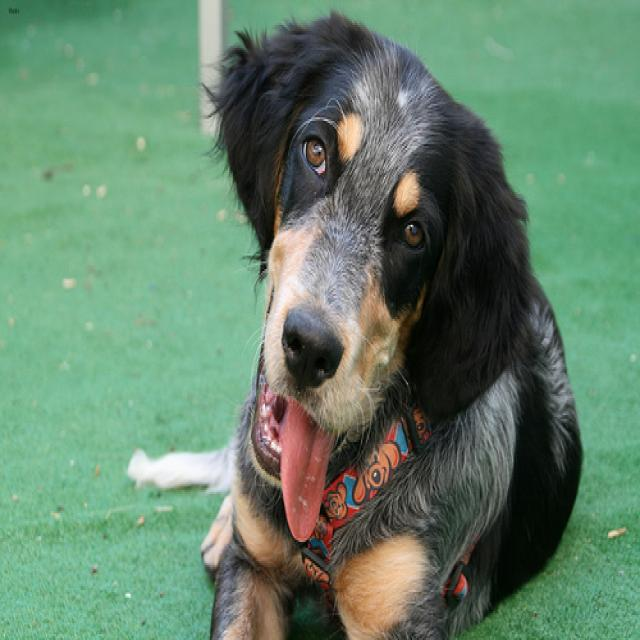dog-english_setter: (191, 2, 591, 636)
